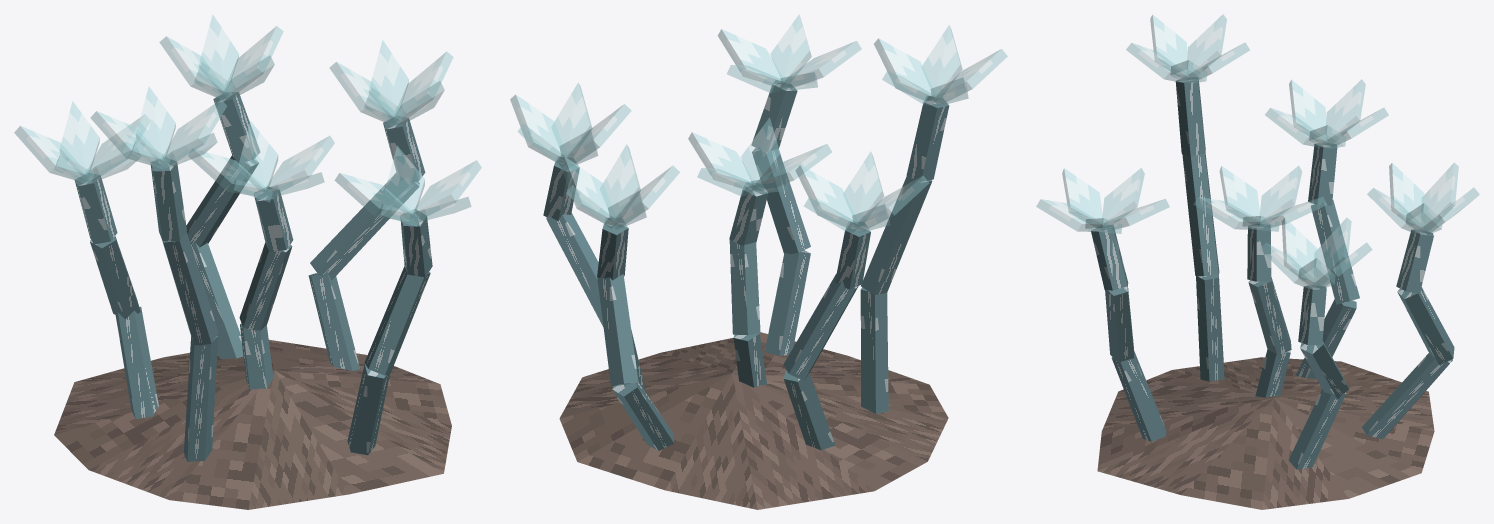
File: f_crystalline_flower.glb
The picture shows the model from 3 angles, left to right: view 1: azimuth 30°, elevation 25°; view 2: azimuth 150°, elevation 25°; view 3: azimuth 270°, elevation 25°; orthographic projection. The views are drawn at different scales.
Visible parts, largest first — view 1: block_root-substrate, block_folded-petal (×28), block_segmented-plant-stem-2 (×6), block_segmented-plant-stem-1 (×6), block_segmented-plant-stem-3 (×6); view 2: block_root-substrate, block_folded-petal (×28), block_segmented-plant-stem-2 (×6), block_segmented-plant-stem-1 (×5), block_segmented-plant-stem-3 (×6); view 3: block_root-substrate, block_folded-petal (×28), block_segmented-plant-stem-2 (×6), block_segmented-plant-stem-1 (×6), block_segmented-plant-stem-3 (×6).
Boxes of the visible parts, x1,y1,x2,y2 form: block_root-substrate: (54,339,451,509); block_folded-petal (×28): (14,14,481,222); block_segmented-plant-stem-2 (×6): (90,155,430,375); block_segmented-plant-stem-1 (×6): (115,242,389,461); block_segmented-plant-stem-3 (×6): (74,92,432,277); block_root-substrate: (559,332,948,509); block_folded-petal (×28): (510,14,1007,232); block_segmented-plant-stem-2 (×6): (546,148,932,386); block_segmented-plant-stem-1 (×5): (612,250,888,450); block_segmented-plant-stem-3 (×6): (543,80,949,289); block_root-substrate: (1097,357,1434,509); block_folded-petal (×28): (1036,14,1479,289); block_segmented-plant-stem-2 (×6): (1105,153,1454,399); block_segmented-plant-stem-1 (×6): (1111,274,1452,469); block_segmented-plant-stem-3 (×6): (1091,77,1433,345).
Bounding box in the file's own units: 0.6716 × 0.5889 × 0.7012.
Materials: 2 (2 with a texture image).
